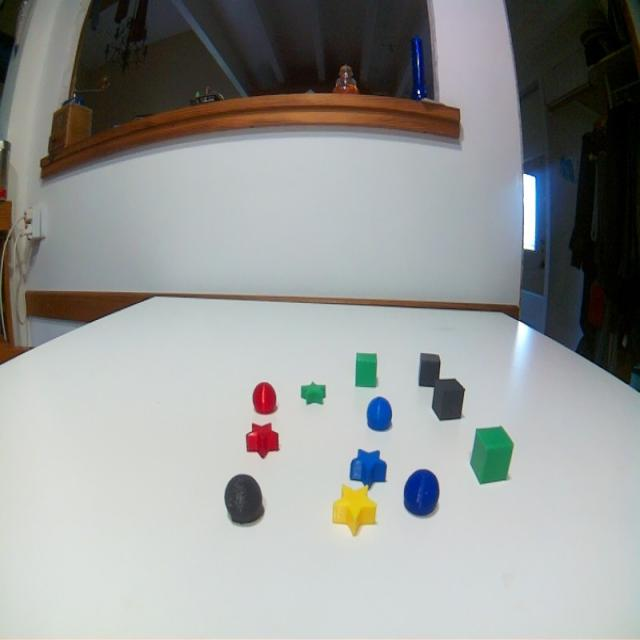ball: (222, 470, 266, 530), (402, 464, 442, 519), (364, 393, 396, 434), (252, 380, 277, 418)
cube: (467, 423, 516, 487), (432, 376, 465, 427), (418, 346, 442, 392), (353, 350, 380, 390)
star: (329, 478, 381, 540), (346, 442, 393, 492), (245, 422, 282, 458), (299, 379, 330, 410)
